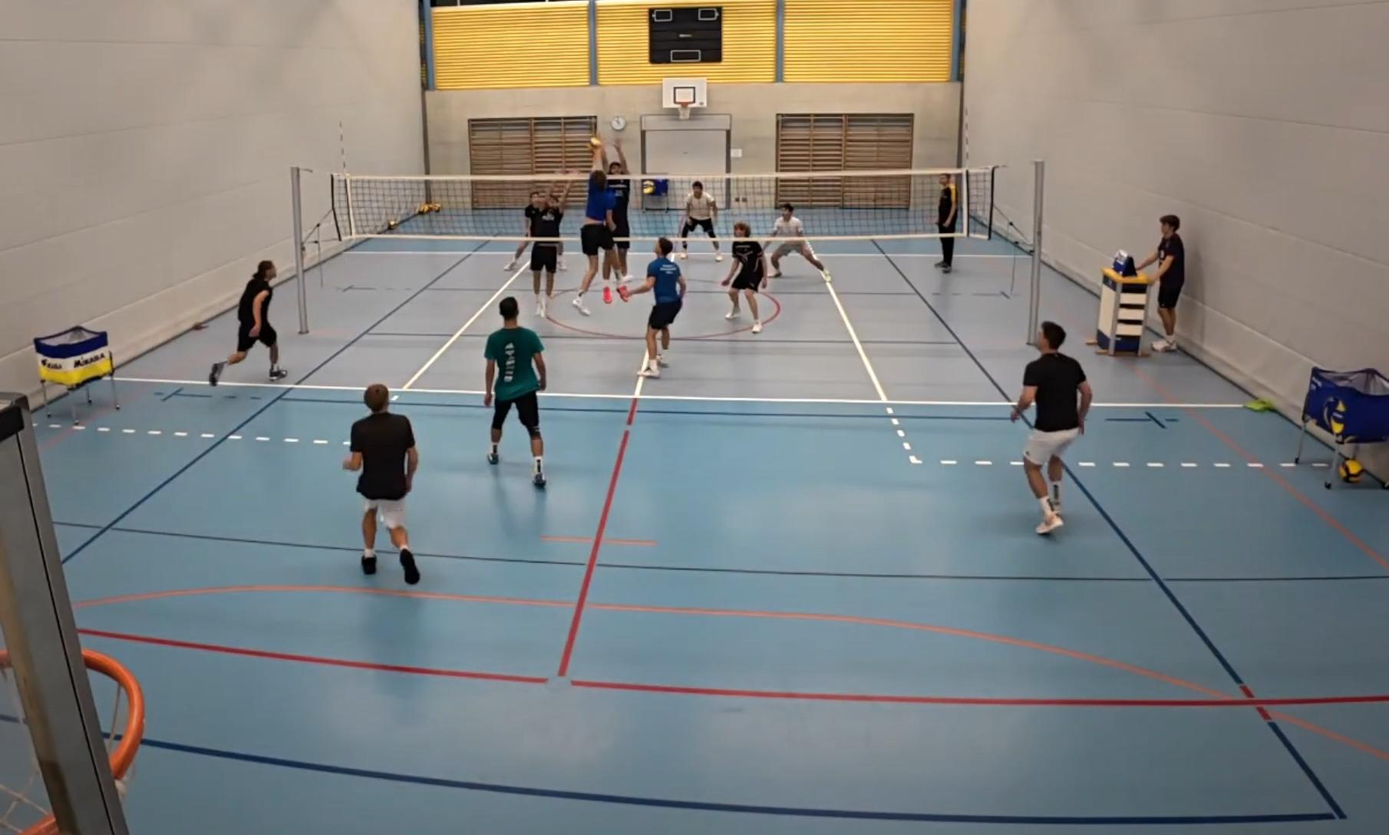Attack: (581, 140, 632, 311)
Block: (519, 154, 578, 326), (595, 132, 637, 310)
Player: (1014, 322, 1091, 534), (344, 383, 421, 584), (482, 298, 548, 487), (206, 260, 289, 388), (638, 236, 685, 378), (721, 218, 770, 330), (766, 201, 828, 282), (676, 180, 720, 259), (504, 180, 542, 266)
ball: (588, 134, 605, 153)
